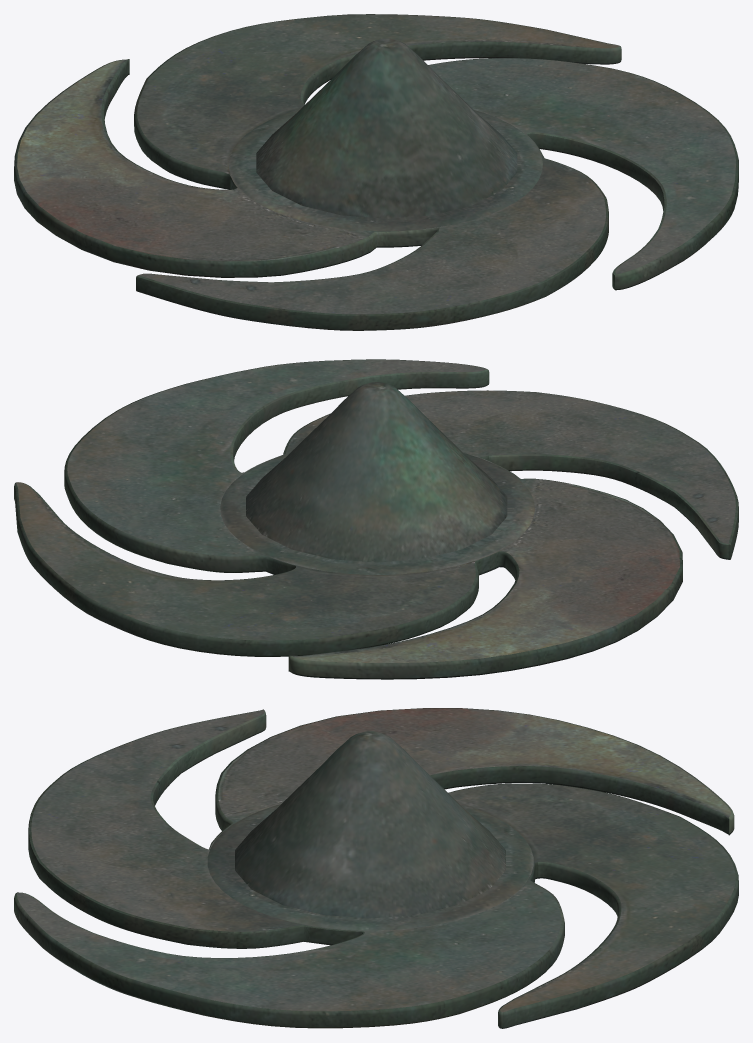
File: sword_low.FBX
The picture shows the model from 3 angles, top to bottom: view 1: azimuth 30°, elevation 25°; view 2: azimuth 150°, elevation 25°; view 3: azimuth 270°, elevation 25°; orthographic projection. The views are drawn at different scales.
Parts seen in each view (by area): view 1: Low; view 2: Low; view 3: Low.
Part boxes in pixels (x1,y1,x2,y2): Low: (14, 14, 738, 330); Low: (14, 359, 738, 679); Low: (14, 708, 738, 1028).
Size of the model in its own units: 22.76 by 4.92 by 22.79.
